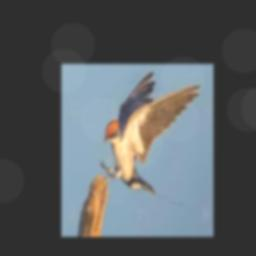Swallow: (99, 71, 203, 205)
